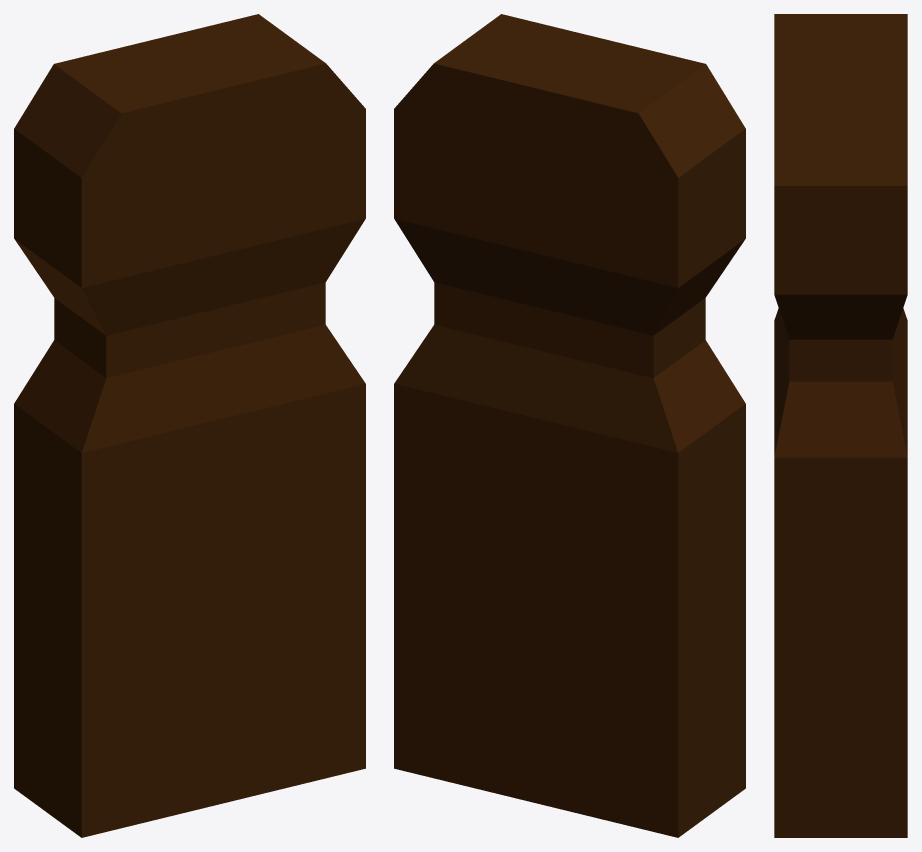
File: target.obj
3 renders of one model, left to right at view 1: azimuth 30°, elevation 25°; view 2: azimuth 150°, elevation 25°; view 3: azimuth 270°, elevation 25°, orthographic.
Visible parts, largest first — view 1: Cube_Cube.001; view 2: Cube_Cube.001; view 3: Cube_Cube.001.
Part boxes in pixels (x1=…): Cube_Cube.001: x1=14, y1=14, x2=365, y2=837; Cube_Cube.001: x1=394, y1=14, x2=745, y2=837; Cube_Cube.001: x1=774, y1=14, x2=907, y2=837.
Size of the model in its own units: 0.5035 by 1.21 by 0.2073.
